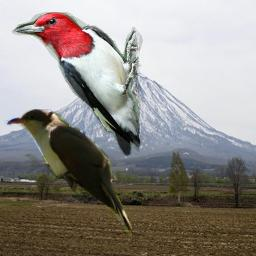Cuckoo: (4, 109, 132, 237)
Woodpecker: (11, 12, 147, 156)
